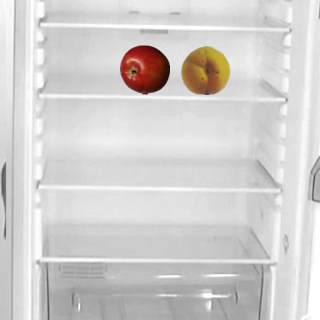Apple Braeburn: (119, 44, 169, 94)
Peach 2: (180, 44, 230, 94)
